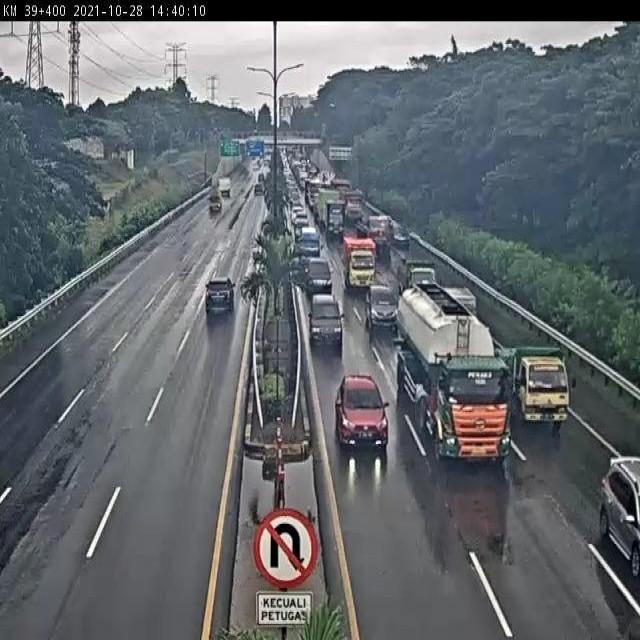car: (335, 375, 390, 449), (307, 292, 344, 347), (367, 280, 400, 332), (203, 277, 235, 311), (304, 253, 333, 287)
truck-m-: (497, 344, 571, 428), (393, 246, 436, 290), (342, 236, 375, 289)
truck-xl-: (396, 283, 512, 464)
